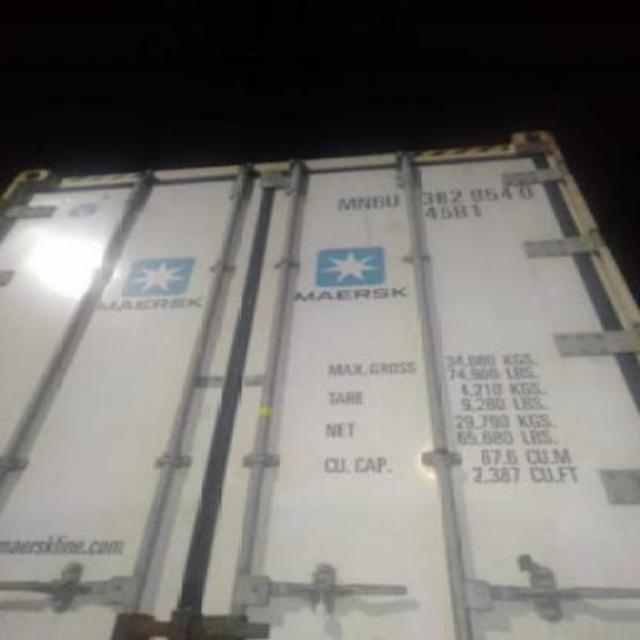0: (518, 184, 532, 200)
2: (452, 190, 464, 202)
3: (422, 192, 434, 204)
4: (498, 184, 514, 200)
5: (486, 186, 499, 200)
8: (436, 190, 449, 202)
9: (470, 188, 486, 202)
B: (374, 196, 386, 208)
M: (336, 196, 356, 212)
N: (358, 197, 372, 210)
U: (386, 194, 399, 210)
